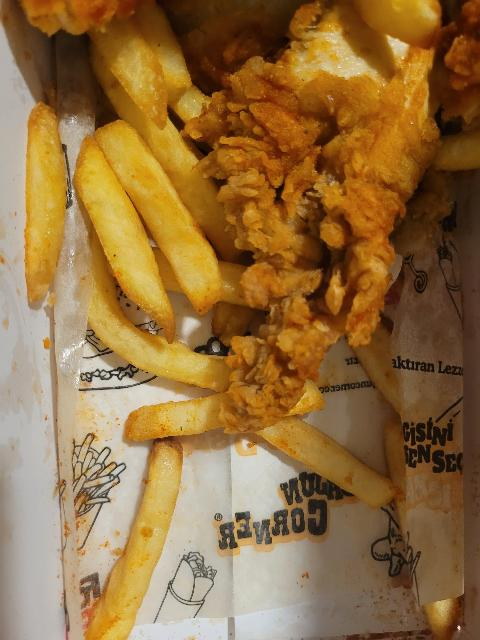Organik: (82, 2, 432, 413), (102, 417, 189, 640), (23, 100, 73, 317)
